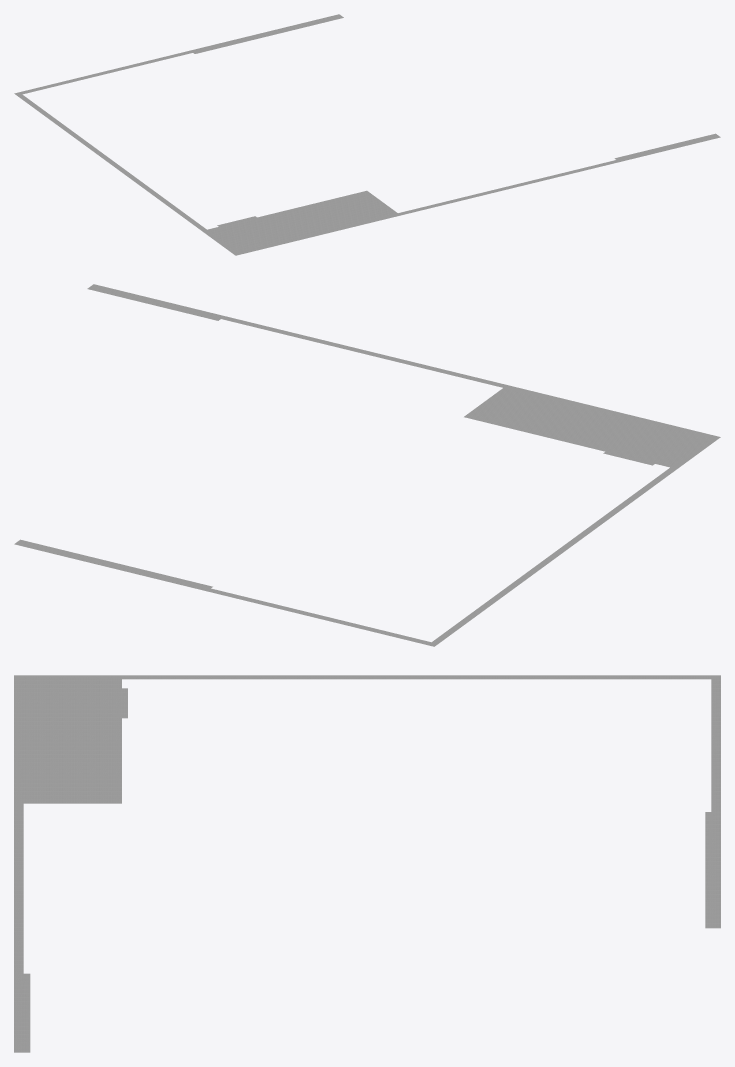
File: prizeme_dlabza.obj
3 views of the same model, one above another, from view 1: azimuth 30°, elevation 25°; view 2: azimuth 150°, elevation 25°; view 3: azimuth 270°, elevation 25° (orthographic). The views are drawn at different scales.
Visible parts, largest first — view 1: prizeme_dlabza; view 2: prizeme_dlabza; view 3: prizeme_dlabza.
Boxes of the visible parts, <box> form: prizeme_dlabza: <box>14,14,720,255</box>; prizeme_dlabza: <box>14,284,720,646</box>; prizeme_dlabza: <box>14,675,720,1052</box>.
Bounding box in the file's own units: 1.68 × 0 × 1.33.
Materials: 1 (1 with a texture image).
